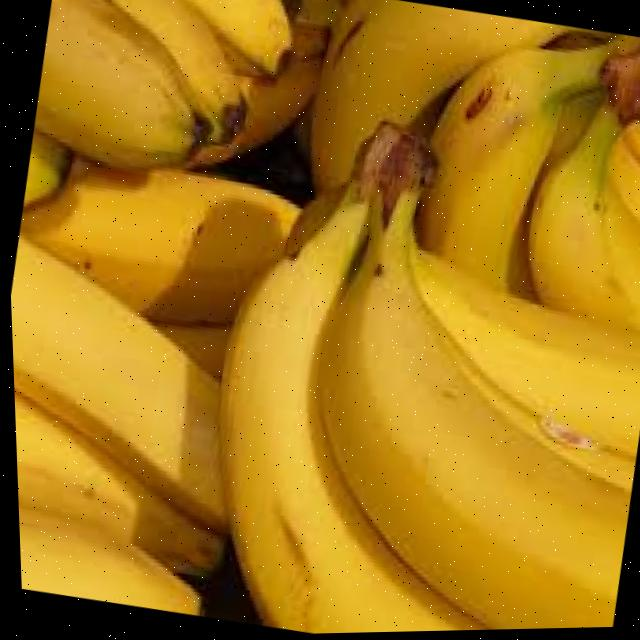Banana: (318, 228, 626, 632), (216, 204, 489, 634), (9, 236, 221, 535), (411, 244, 640, 496), (417, 43, 624, 287), (310, 0, 567, 191), (18, 161, 298, 324), (33, 0, 192, 168), (526, 105, 623, 325), (106, 0, 239, 141), (15, 510, 190, 614), (188, 0, 291, 76), (123, 505, 210, 568)
